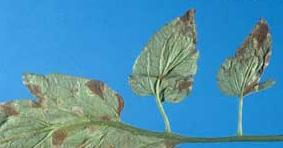Tomato mold leaf: (0, 68, 179, 148), (128, 7, 213, 107), (216, 20, 282, 98)
